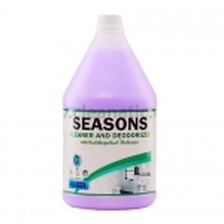cleaning_solution: (57, 11, 162, 213)
